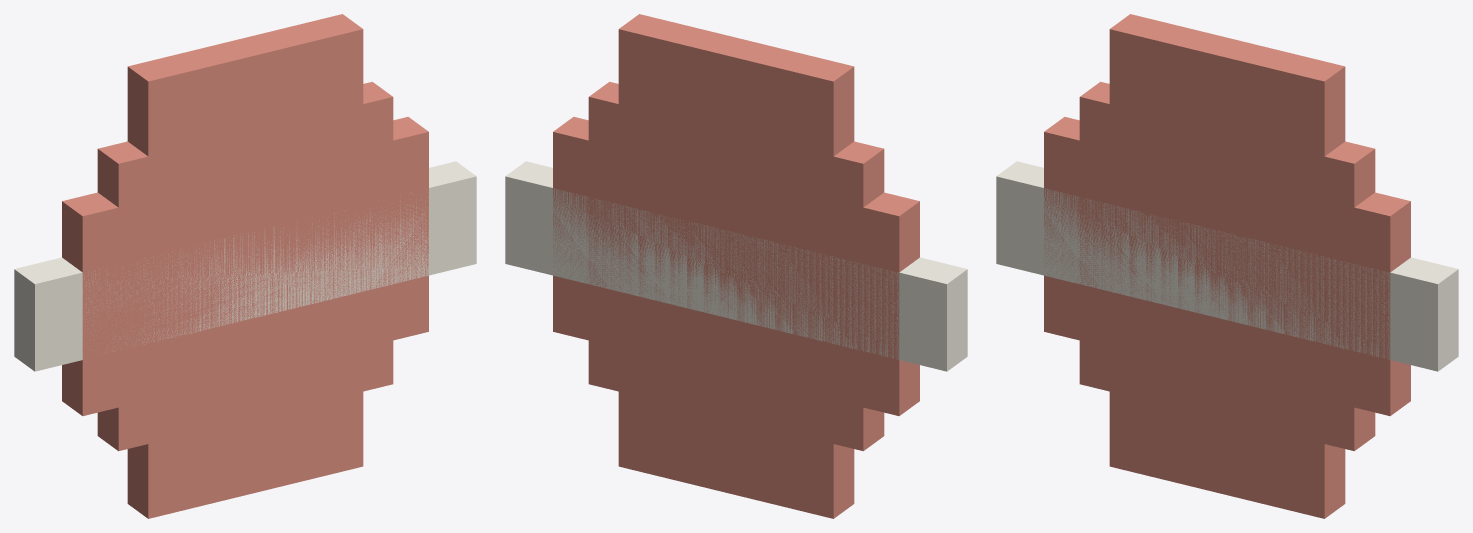
Rendered from MOD_BAKERY_ROOFTOP_ICON_001_LOD_MAP.glb.
The picture shows the model from 3 angles, left to right: view 1: azimuth 30°, elevation 25°; view 2: azimuth 150°, elevation 25°; view 3: azimuth 330°, elevation 25°; orthographic projection.
Visible parts, largest first — view 1: MOD_BAKERY_ROOFTOP_ICON_001_BREAD_LOAF_ICON_MAP_ICON, MOD_BAKERY_ROOFTOP_ICON_001_WHEAT_BUNDLE_ICON_MAP_ICON, MOD_BAKERY_ROOFTOP_ICON_001_ROLLING_PIN_ICON_MAP_ICON, MOD_BAKERY_ROOFTOP_ICON_001_PASTRY_CREST_ICON_MAP_ICON; view 2: MOD_BAKERY_ROOFTOP_ICON_001_BREAD_LOAF_ICON_MAP_ICON, MOD_BAKERY_ROOFTOP_ICON_001_WHEAT_BUNDLE_ICON_MAP_ICON, MOD_BAKERY_ROOFTOP_ICON_001_PASTRY_CREST_ICON_MAP_ICON, MOD_BAKERY_ROOFTOP_ICON_001_ROLLING_PIN_ICON_MAP_ICON; view 3: MOD_BAKERY_ROOFTOP_ICON_001_BREAD_LOAF_ICON_MAP_ICON, MOD_BAKERY_ROOFTOP_ICON_001_WHEAT_BUNDLE_ICON_MAP_ICON, MOD_BAKERY_ROOFTOP_ICON_001_PASTRY_CREST_ICON_MAP_ICON, MOD_BAKERY_ROOFTOP_ICON_001_ROLLING_PIN_ICON_MAP_ICON.
Part boxes in pixels (x1,y1,x2,y2): MOD_BAKERY_ROOFTOP_ICON_001_BREAD_LOAF_ICON_MAP_ICON: [62, 117, 428, 415]; MOD_BAKERY_ROOFTOP_ICON_001_WHEAT_BUNDLE_ICON_MAP_ICON: [127, 14, 363, 518]; MOD_BAKERY_ROOFTOP_ICON_001_ROLLING_PIN_ICON_MAP_ICON: [14, 161, 476, 371]; MOD_BAKERY_ROOFTOP_ICON_001_PASTRY_CREST_ICON_MAP_ICON: [97, 81, 393, 451]; MOD_BAKERY_ROOFTOP_ICON_001_BREAD_LOAF_ICON_MAP_ICON: [553, 117, 919, 415]; MOD_BAKERY_ROOFTOP_ICON_001_WHEAT_BUNDLE_ICON_MAP_ICON: [618, 14, 854, 518]; MOD_BAKERY_ROOFTOP_ICON_001_PASTRY_CREST_ICON_MAP_ICON: [588, 81, 884, 451]; MOD_BAKERY_ROOFTOP_ICON_001_ROLLING_PIN_ICON_MAP_ICON: [505, 161, 967, 371]; MOD_BAKERY_ROOFTOP_ICON_001_BREAD_LOAF_ICON_MAP_ICON: [1044, 117, 1410, 415]; MOD_BAKERY_ROOFTOP_ICON_001_WHEAT_BUNDLE_ICON_MAP_ICON: [1109, 14, 1345, 518]; MOD_BAKERY_ROOFTOP_ICON_001_PASTRY_CREST_ICON_MAP_ICON: [1079, 81, 1375, 451]; MOD_BAKERY_ROOFTOP_ICON_001_ROLLING_PIN_ICON_MAP_ICON: [996, 161, 1458, 371].
Size of the model in its own units: 1.48 by 1.41 by 0.12.
